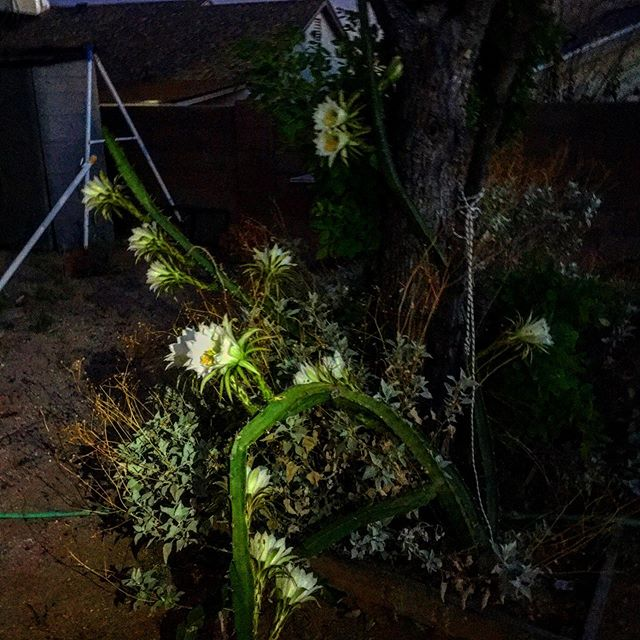flowers: (39, 101, 543, 595)
